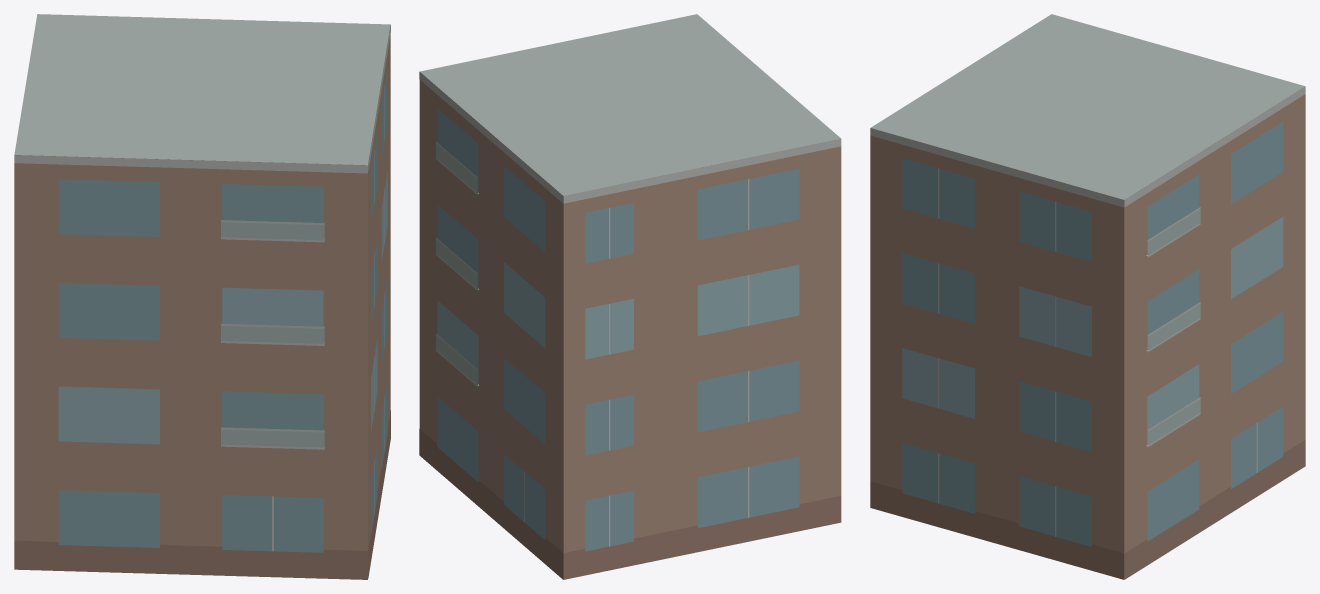
The model's file is residential-3cf65bf2-3bd8-4569-a3f9-deffba6fa231.glb.
The picture shows the model from 3 angles, left to right: view 1: azimuth 30°, elevation 25°; view 2: azimuth 150°, elevation 25°; view 3: azimuth 270°, elevation 25°; orthographic projection. The views are drawn at different scales.
Visible parts, largest first — view 1: residential-3cf65bf2-3bd8-4569-a3f9-deffba6fa231.tmp; view 2: residential-3cf65bf2-3bd8-4569-a3f9-deffba6fa231.tmp; view 3: residential-3cf65bf2-3bd8-4569-a3f9-deffba6fa231.tmp.
Boxes of the visible parts, x1,y1,x2,y2 form: residential-3cf65bf2-3bd8-4569-a3f9-deffba6fa231.tmp: (14, 14, 390, 579); residential-3cf65bf2-3bd8-4569-a3f9-deffba6fa231.tmp: (419, 14, 841, 579); residential-3cf65bf2-3bd8-4569-a3f9-deffba6fa231.tmp: (870, 14, 1305, 579).
Bounding box in the file's own units: 12.82 × 12.2 × 12.68.
